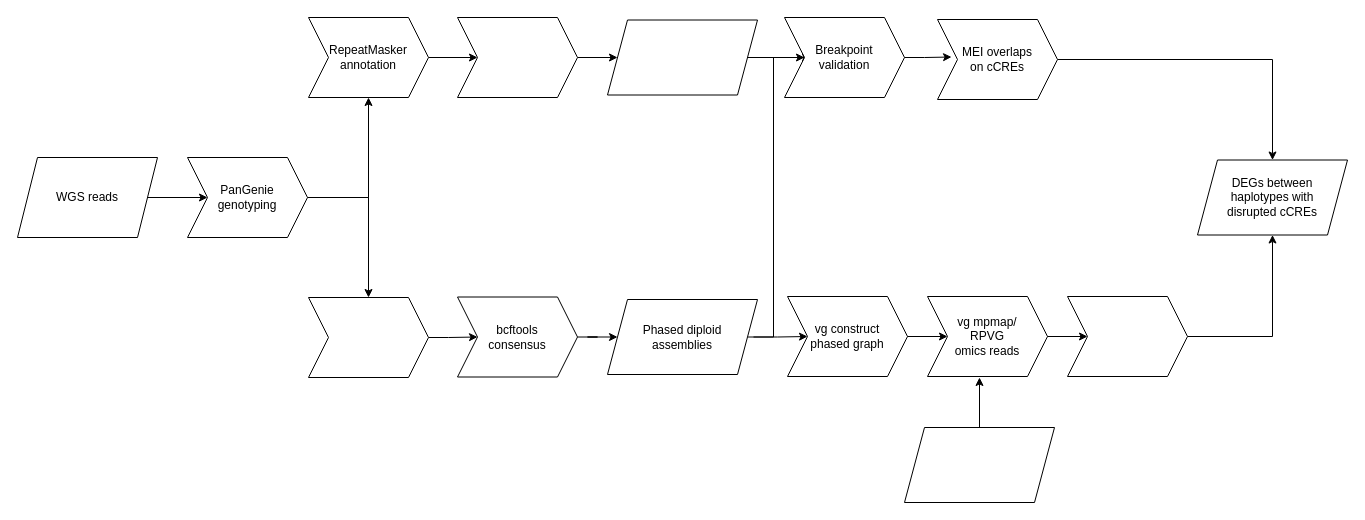
Image size: 1365x520. Some labels were removed from this diagram. The centre of each missing label's shape, as x and y in pixels:
L1ME-AID overlaps: point 517,57
RNA-seq, ATAC-seq, etc.: point 979,464
SHAPEIT5 phasing: point 368,337
TE annotations: point 682,57
WASP allele specific analysis: point 1127,336
